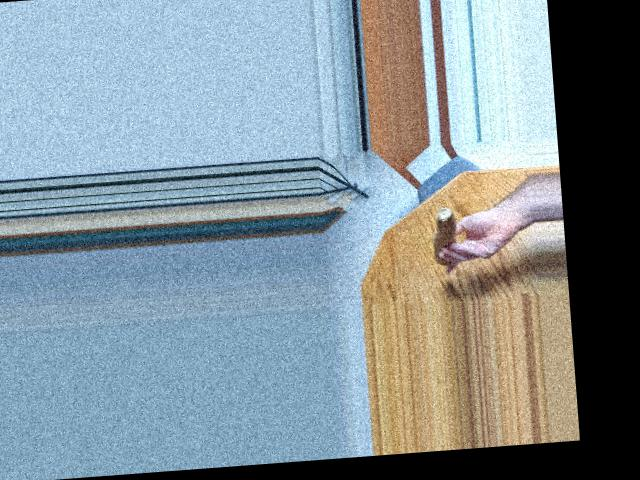sweet_potato: (431, 216, 460, 263)
